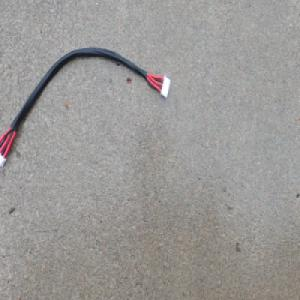Wire: (0, 44, 171, 170)
